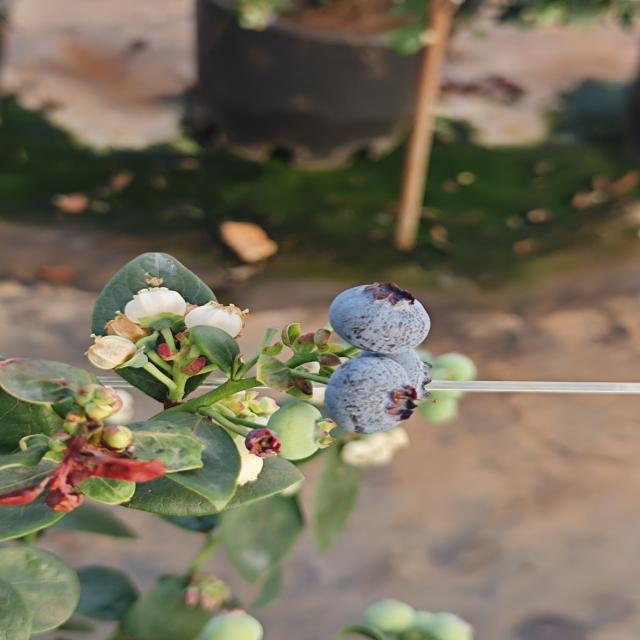ripe: (324, 350, 439, 440), (326, 280, 433, 356)
